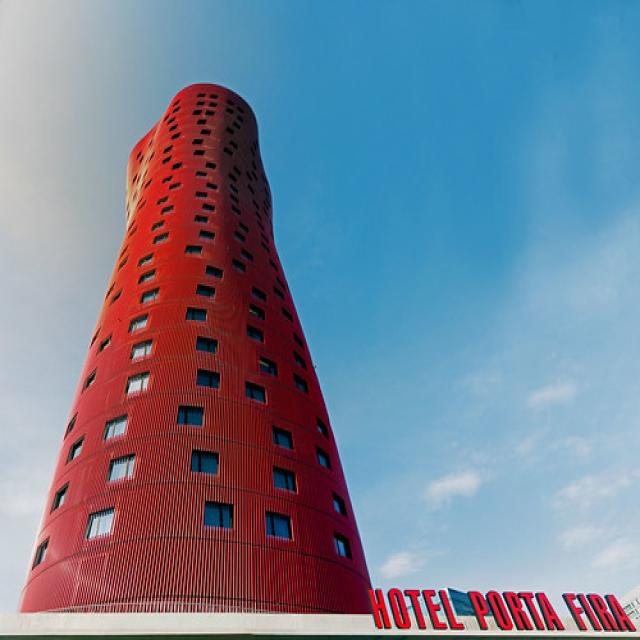building: (12, 76, 382, 616)
